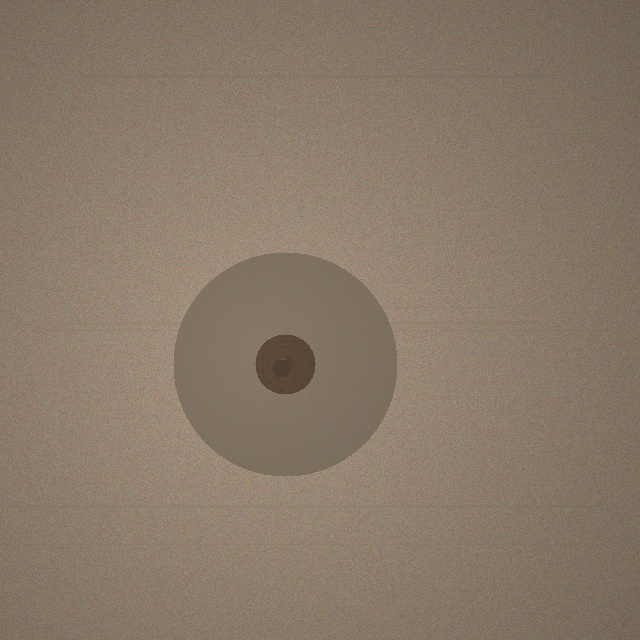cold_weld: (173, 252, 397, 476)
